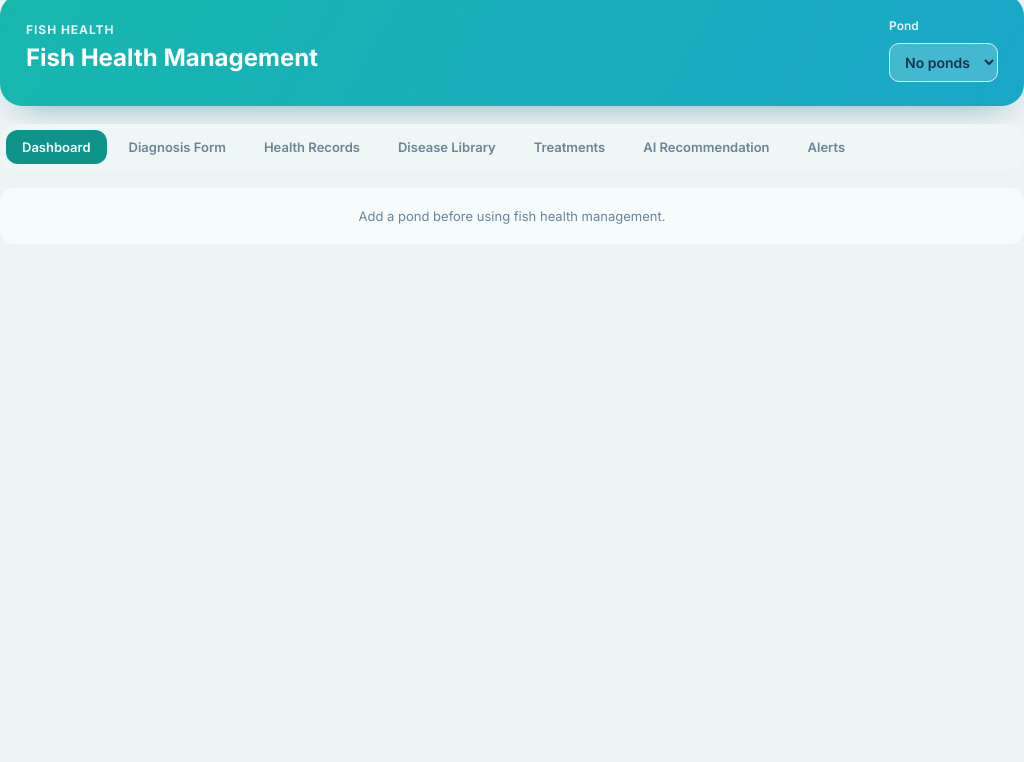
fish health integration flow › shows a diagnosis error when saving fails
Expected: the heading "Fish Health Management" is shown, [26,43,318,72]
Click the button "Diagnosis Form" at (177, 147), box [113,130,242,164]
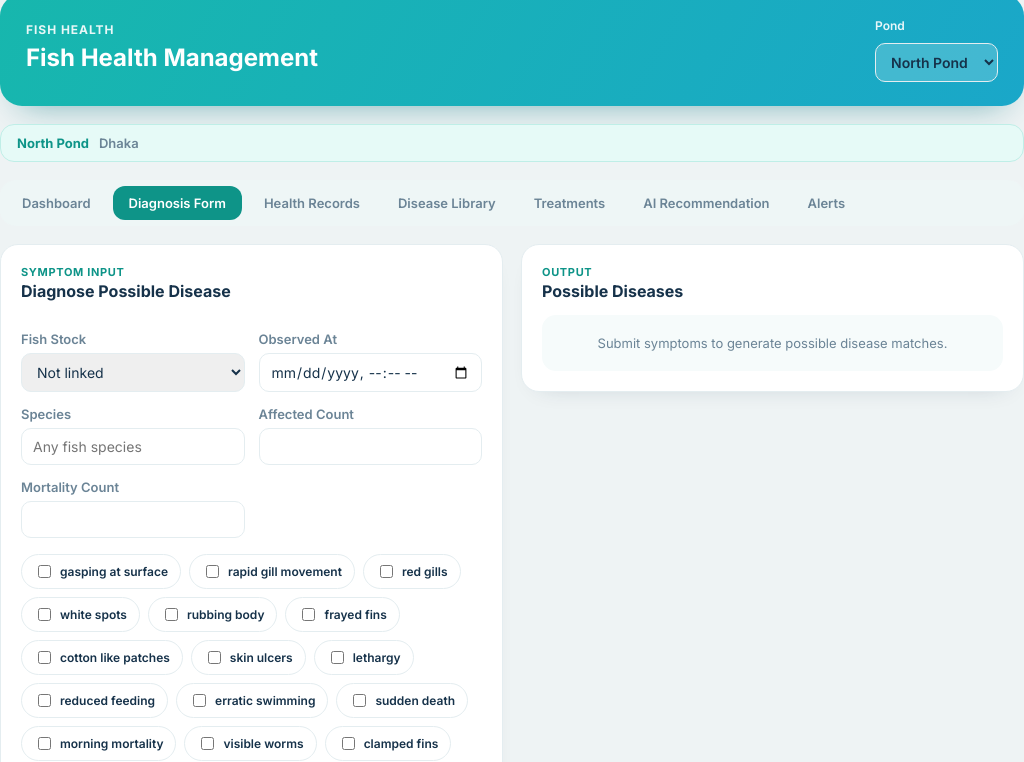
Select "Tilapia Batch A - Tilapia" in the dropdown labelled "Fish Stock" at (133, 372), box [21,353,244,392]
(page scrolled)
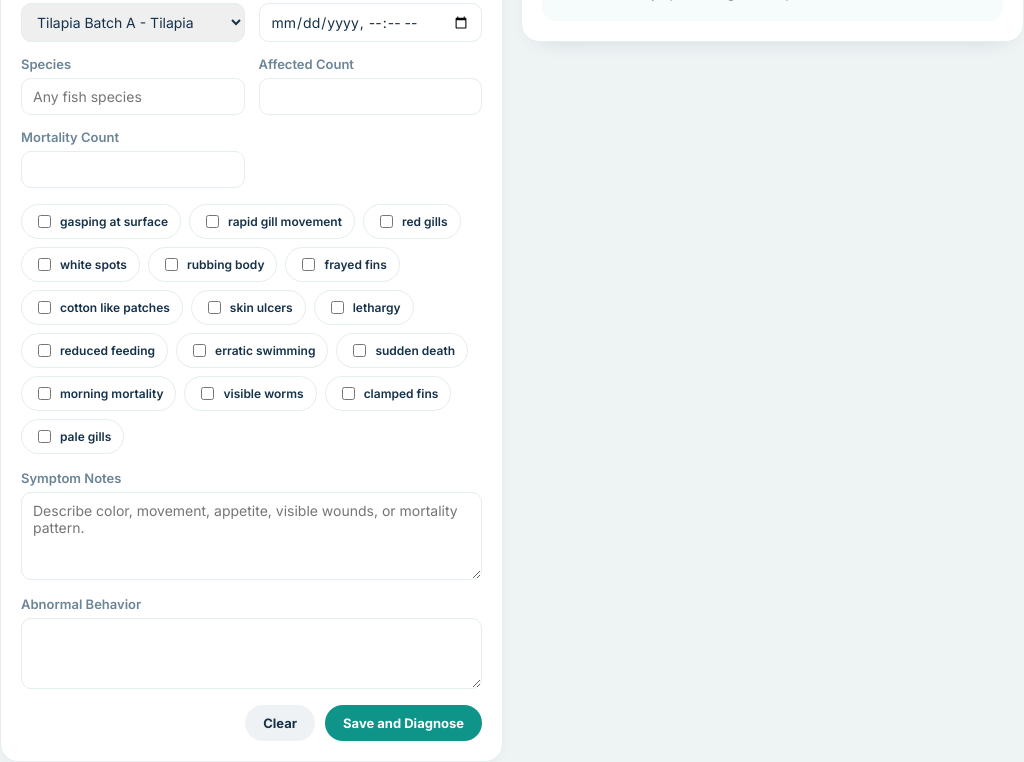
Click the button "Save and Diagnose" at (404, 723), box [325,705,482,741]
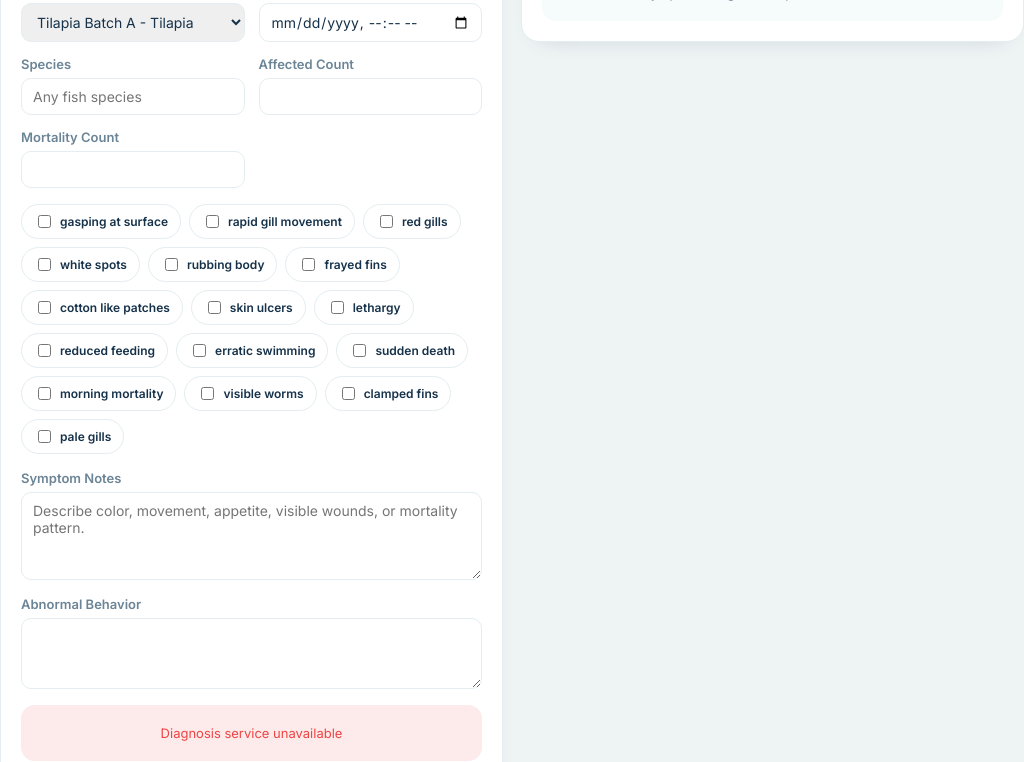
Expected: the text "Diagnosis service unavailable" is shown, [21,705,482,761]
